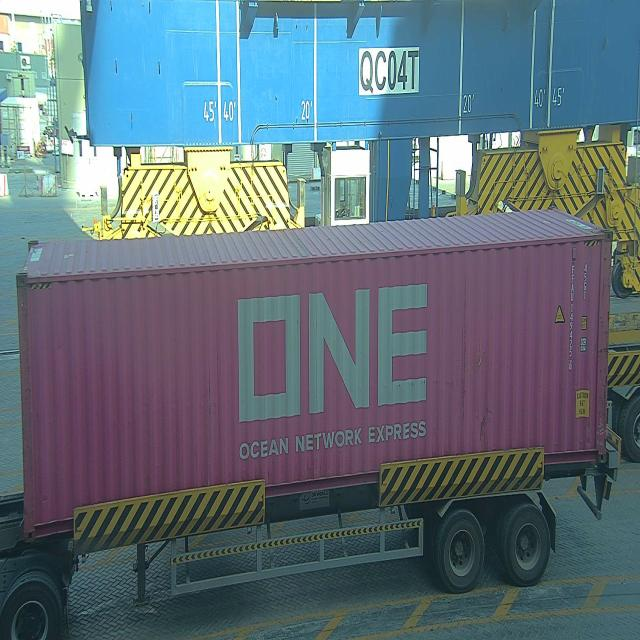dent: (477, 403, 498, 448)
